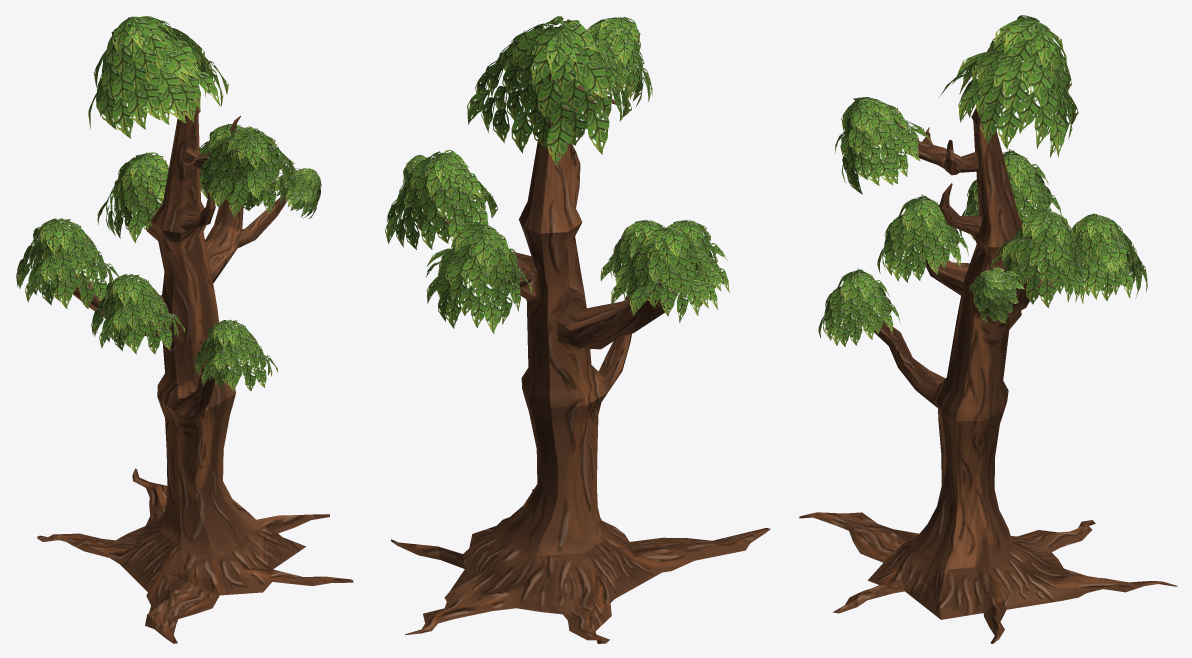
Rendered from LowPolyTree_03.gltf.
The picture shows the model from 3 angles, left to right: view 1: azimuth 30°, elevation 25°; view 2: azimuth 150°, elevation 25°; view 3: azimuth 270°, elevation 25°; orthographic projection. The views are drawn at different scales.
Visible parts, largest first — view 1: polySurface1, pasted__pPlane167_lambert3_0, pasted__pPlane168, pasted__pPlane163_lambert3_0, pasted__pPlane162_lambert3_0, pasted__pPlane164_lambert3_0, pasted__pPlane36, pasted__pPlane166, pasted__pPlane165_lambert3_0; view 2: polySurface1, pasted__pPlane167_lambert3_0, pasted__pPlane164_lambert3_0, pasted__pPlane165_lambert3_0, pasted__pPlane163_lambert3_0, pasted__pPlane168, pasted__pPlane36, pasted__pPlane162_lambert3_0; view 3: polySurface1, pasted__pPlane167_lambert3_0, pasted__pPlane165_lambert3_0, pasted__pPlane168, pasted__pPlane162_lambert3_0, pasted__pPlane164_lambert3_0, pasted__pPlane36, pasted__pPlane163_lambert3_0, pasted__pPlane166.
Boxes of the visible parts, x1=… form: polySurface1: x1=37, y1=42, x2=353, y2=643; pasted__pPlane167_lambert3_0: x1=88, y1=16, x2=228, y2=138; pasted__pPlane168: x1=200, y1=126, x2=296, y2=217; pasted__pPlane163_lambert3_0: x1=16, y1=218, x2=118, y2=308; pasted__pPlane162_lambert3_0: x1=91, y1=274, x2=184, y2=354; pasted__pPlane164_lambert3_0: x1=97, y1=152, x2=168, y2=243; pasted__pPlane36: x1=194, y1=319, x2=277, y2=391; pasted__pPlane166: x1=274, y1=168, x2=321, y2=218; pasted__pPlane165_lambert3_0: x1=199, y1=123, x2=277, y2=207; polySurface1: x1=391, y1=58, x2=770, y2=643; pasted__pPlane167_lambert3_0: x1=467, y1=16, x2=631, y2=165; pasted__pPlane164_lambert3_0: x1=425, y1=221, x2=532, y2=333; pasted__pPlane165_lambert3_0: x1=385, y1=149, x2=497, y2=249; pasted__pPlane163_lambert3_0: x1=611, y1=227, x2=718, y2=322; pasted__pPlane168: x1=577, y1=16, x2=652, y2=107; pasted__pPlane36: x1=600, y1=220, x2=664, y2=284; pasted__pPlane162_lambert3_0: x1=637, y1=219, x2=729, y2=298; polySurface1: x1=799, y1=67, x2=1177, y2=643; pasted__pPlane167_lambert3_0: x1=939, y1=15, x2=1078, y2=157; pasted__pPlane165_lambert3_0: x1=989, y1=208, x2=1084, y2=308; pasted__pPlane168: x1=835, y1=97, x2=933, y2=194; pasted__pPlane162_lambert3_0: x1=877, y1=194, x2=969, y2=282; pasted__pPlane164_lambert3_0: x1=1051, y1=213, x2=1147, y2=301; pasted__pPlane36: x1=818, y1=268, x2=900, y2=346; pasted__pPlane163_lambert3_0: x1=959, y1=149, x2=1061, y2=240; pasted__pPlane166: x1=969, y1=267, x2=1024, y2=323.
Size of the model in its own units: 3.08 by 5.21 by 3.3.
2 materials, 2 textured.
